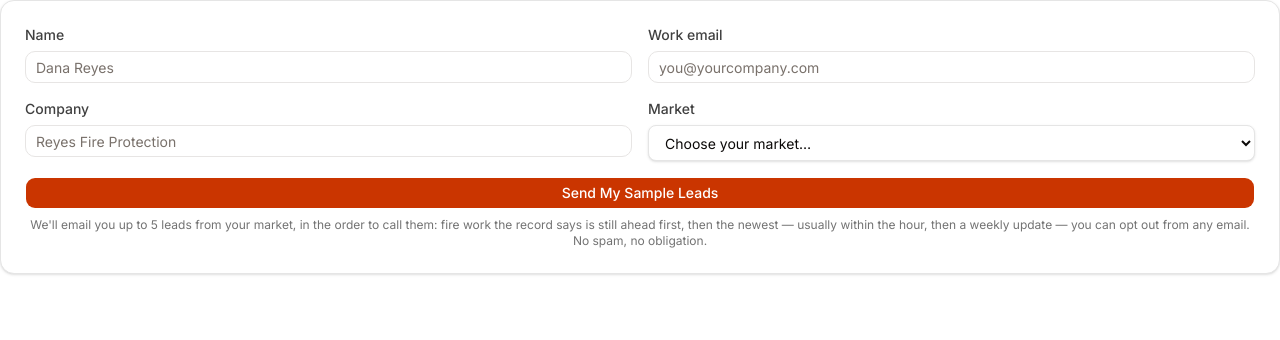
Scenario: SampleLeadsForm › shows validation errors and does not submit when empty
Click the button "Send My Sample Leads": (640, 193) top-left (25, 177), bottom-right (1255, 209)
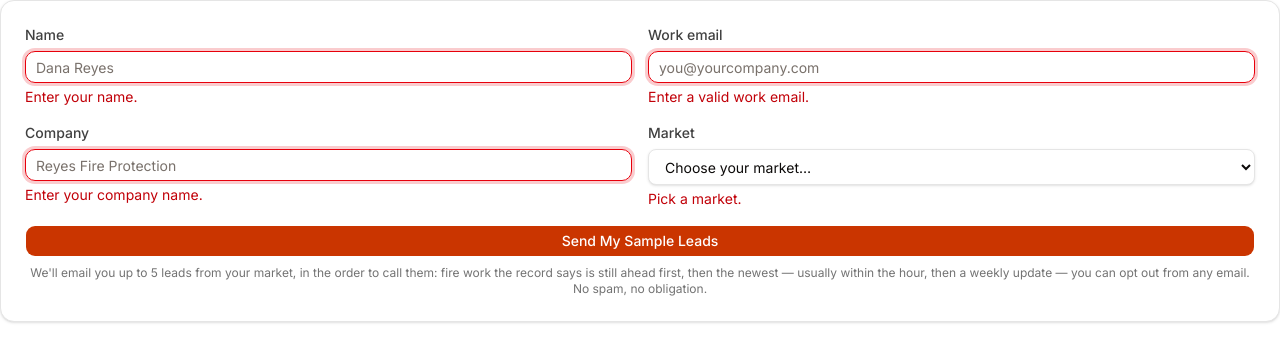
Now the text "Enter your name." is shown, box top-left (25, 88), bottom-right (138, 105)
Now the text "Enter a valid work email." is shown, box top-left (648, 88), bottom-right (809, 105)
Now the text "Enter your company name." is shown, box top-left (25, 186), bottom-right (203, 203)
